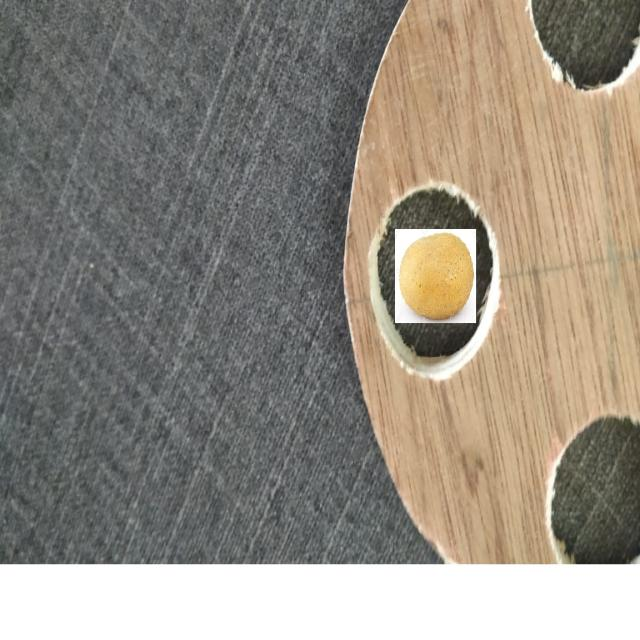potato: (399, 235, 472, 319)
